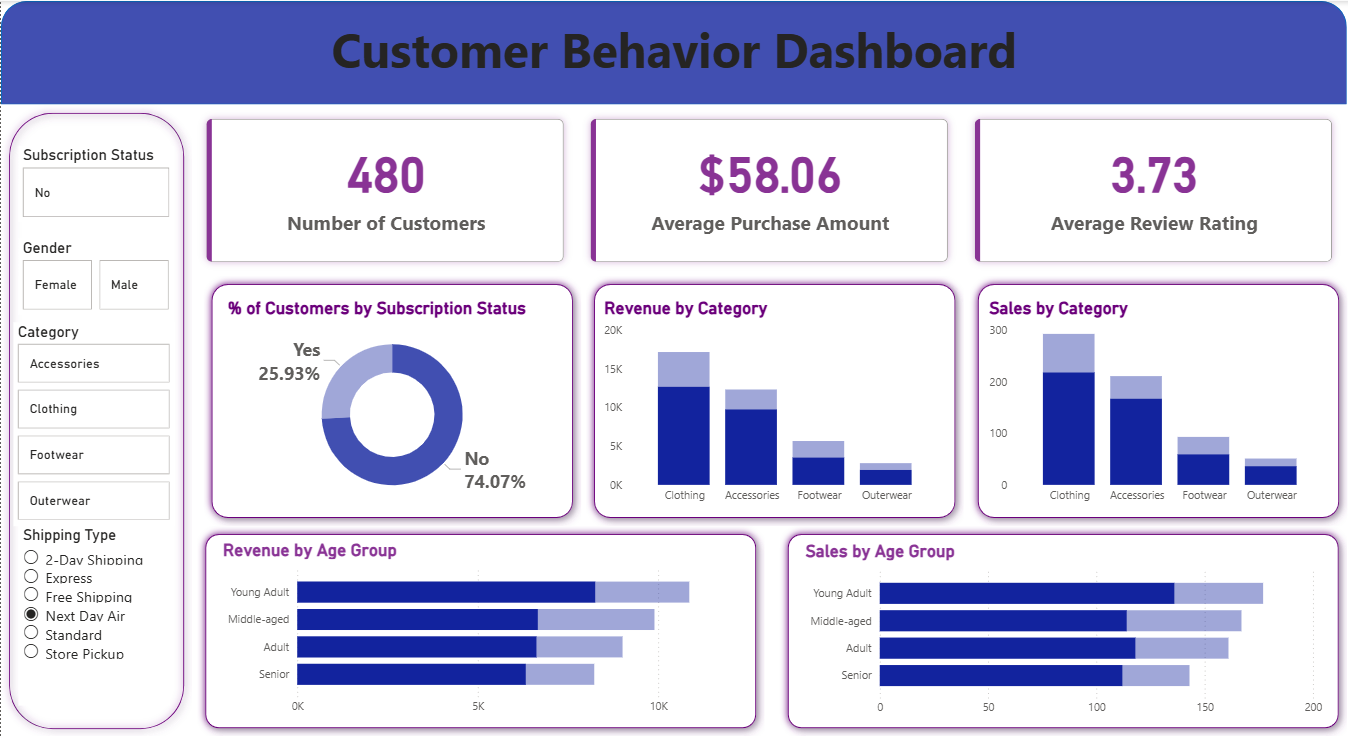

The dashboard page shown, as its layout file describes it:
{"tool":"powerbi","page":{"name":"Page 1","canvas":[1500,820],"ordinal":0},"visuals":[{"type":"cardVisual","fields":{"Data":["public customer.Number of Customers","public customer.Average Purchase Amount","public customer.Average Review Rating"]},"box":[212.9,115.3,1286.5,191.6],"z":2000},{"type":"shape","box":[218.3,585.6,631.7,234.2],"z":2500,"group":"g1"},{"type":"shape","box":[0,0,1499.4,115.3],"z":3000},{"type":"textbox","box":[0,12.5,1499.9,103.1],"z":4000},{"type":"shape","box":[225.4,307,420.5,278.6],"z":5000},{"type":"donutChart","title":"% of Customers by Subscription Status","fields":{"Category":["public customer.subscription_status"],"Y":["CountNonNull(public customer.customer_id)"]},"box":[248.4,331.8,376.2,237.8],"z":6000},{"type":"shape","box":[1078.9,307,420.5,278.6],"z":7000},{"type":"shape","box":[652.1,307,420.5,278.6],"z":8000},{"type":"clusteredColumnChart","title":"Revenue by Category","fields":{"Y":["Sum(public customer.purchase_amount)"],"Category":["public customer.category"]},"box":[667.2,331.8,385.1,237.8],"z":9000},{"type":"clusteredColumnChart","title":"Sales by Category","fields":{"Y":["CountNonNull(public customer.customer_id)"],"Category":["public customer.category"]},"box":[1096.6,331.8,385.1,237.8],"z":10000},{"type":"shape","box":[0,115.6,213.1,704.7],"z":11000},{"type":"advancedSlicerVisual","fields":{"Values":["public customer.subscription_status"]},"box":[19.5,161.5,173.9,85.2],"z":12000},{"type":"advancedSlicerVisual","fields":{"Values":["public customer.gender"]},"box":[19.5,264.4,173.9,85.2],"z":13000},{"type":"advancedSlicerVisual","fields":{"Values":["public customer.category"]},"box":[13.9,357.9,179.7,227],"z":14000},{"type":"listSlicer","fields":{"Values":["public customer.shipping_type"]},"box":[19.5,584.9,168.5,200],"z":15000},{"type":"shape","box":[867.7,585.6,631.7,234.2],"z":16000},{"type":"clusteredBarChart","title":"Sales by Age Group","fields":{"Y":["CountNonNull(public customer.customer_id)"],"Category":["public customer.age_group"]},"box":[890.8,601.5,585.6,204.1],"z":17000},{"type":"clusteredBarChart","title":"Revenue by Age Group","fields":{"Y":["Sum(public customer.purchase_amount)"],"Category":["public customer.age_group"]},"box":[241.4,601.6,585.6,204.1],"z":17500,"group":"g1"},{"type":"group","id":"g1","title":"Group 1","box":[218.3,585.6,631.7,234.2],"z":17501}]}

Visuals, with their boxes in screenshot pixels (x1, y1, x2, y2), scaled from the page's 1500x820 canvas onto the 1348x736 screenshot:
cardVisual - public customer.Number of Customers x public customer.Average Purchase Amount: box=[191, 103, 1347, 275]
shape: box=[196, 526, 764, 735]
shape: box=[0, 0, 1347, 103]
textbox: box=[0, 11, 1347, 104]
shape: box=[203, 276, 580, 526]
"% of Customers by Subscription Status" donutChart: box=[223, 298, 561, 511]
shape: box=[970, 276, 1347, 526]
shape: box=[586, 276, 964, 526]
"Revenue by Category" clusteredColumnChart: box=[600, 298, 946, 511]
"Sales by Category" clusteredColumnChart: box=[985, 298, 1332, 511]
shape: box=[0, 104, 192, 735]
advancedSlicerVisual - public customer.subscription_status: box=[18, 145, 174, 221]
advancedSlicerVisual - public customer.gender: box=[18, 237, 174, 314]
advancedSlicerVisual - public customer.category: box=[12, 321, 174, 525]
listSlicer - public customer.shipping_type: box=[18, 525, 169, 704]
shape: box=[780, 526, 1347, 735]
"Sales by Age Group" clusteredBarChart: box=[801, 540, 1327, 723]
"Revenue by Age Group" clusteredBarChart: box=[217, 540, 743, 723]
"Group 1" group: box=[196, 526, 764, 735]
